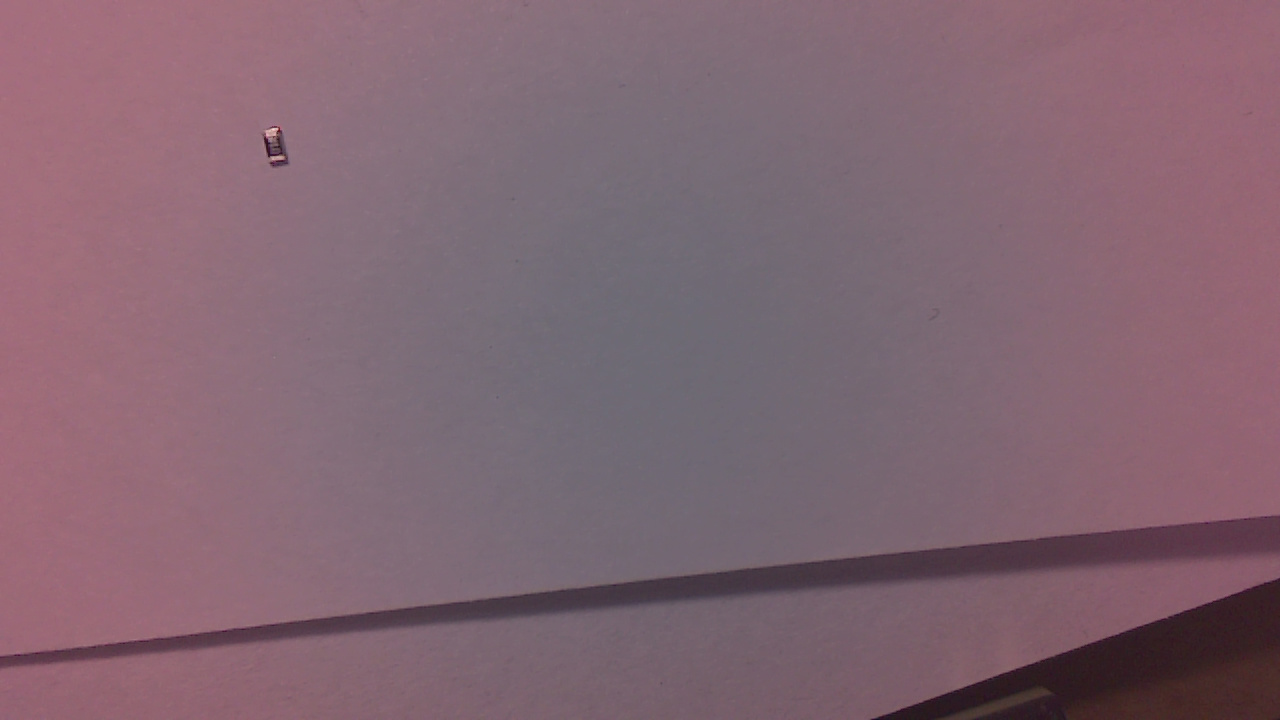Resistor: (265, 130, 297, 175)
